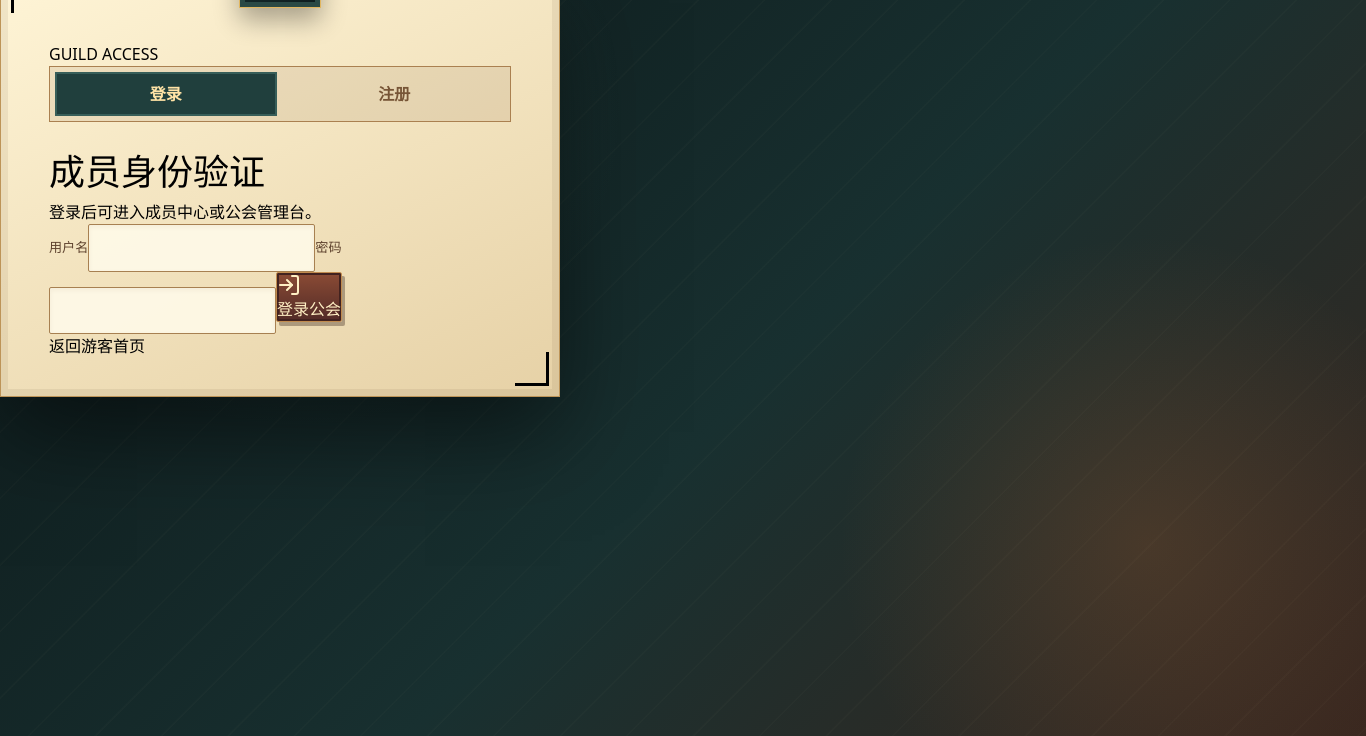
Test: Adventurer Guild app › switches immediately to the authenticated account after login
Type "cos.member" into the field labelled "用户名" at coordinates (202, 248), box [88, 224, 315, 272]
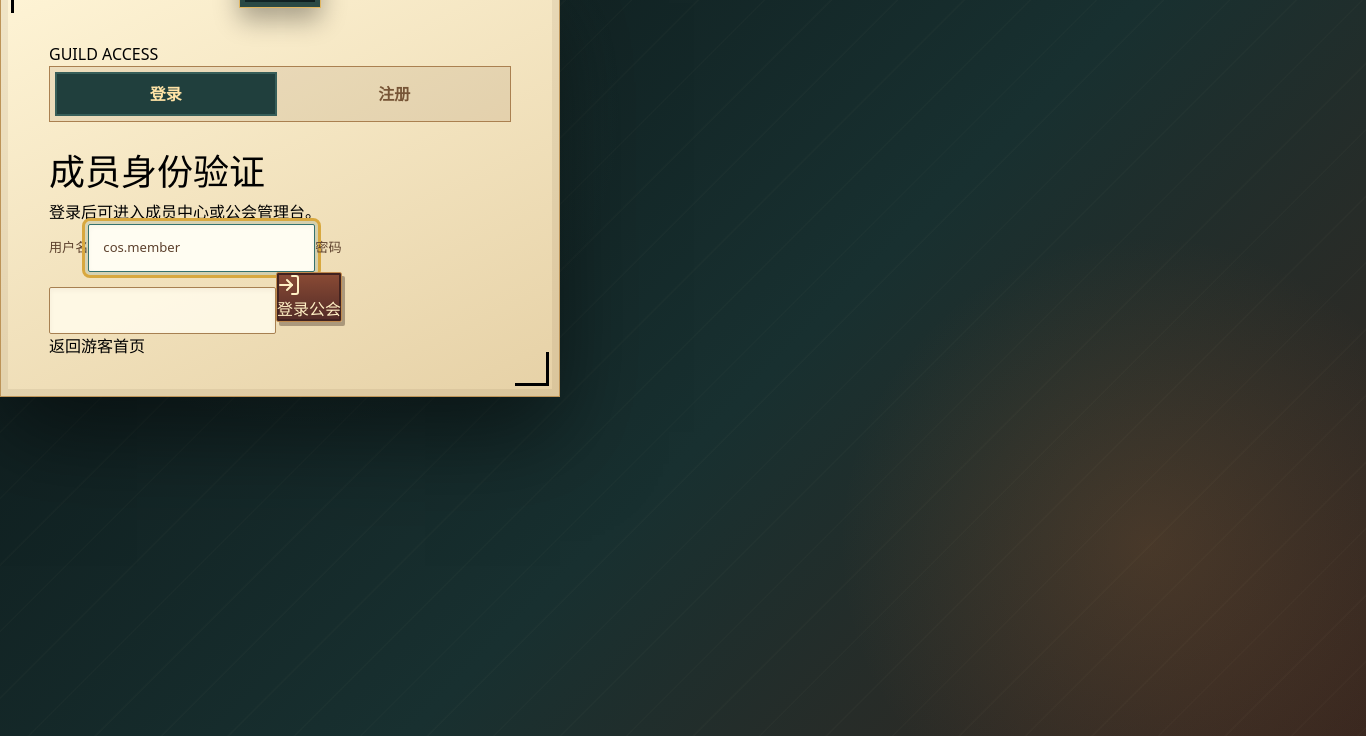
Type "DemoMember!2026" into the password field labelled "密码" at coordinates (162, 311), box [49, 287, 276, 334]
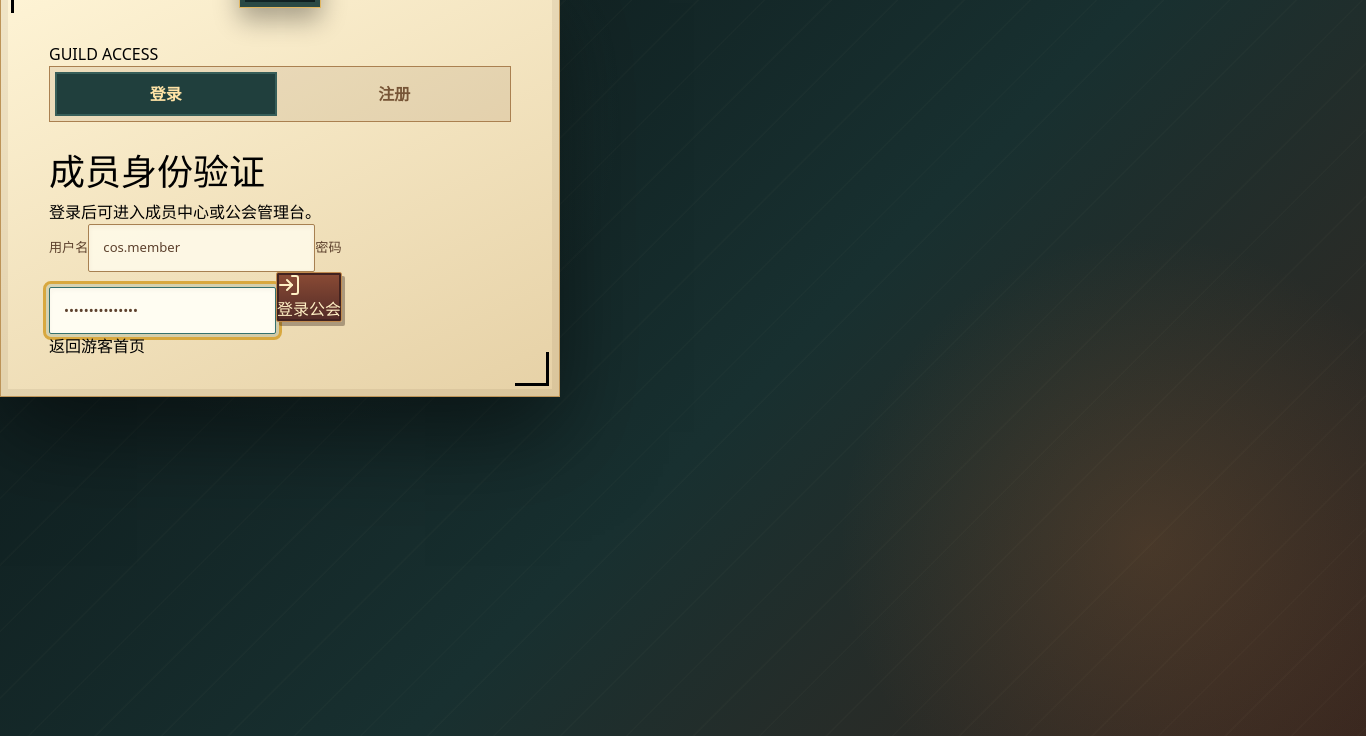
Click the button "登录公会" at coordinates (309, 297), box [276, 272, 342, 322]
(page scrolled)
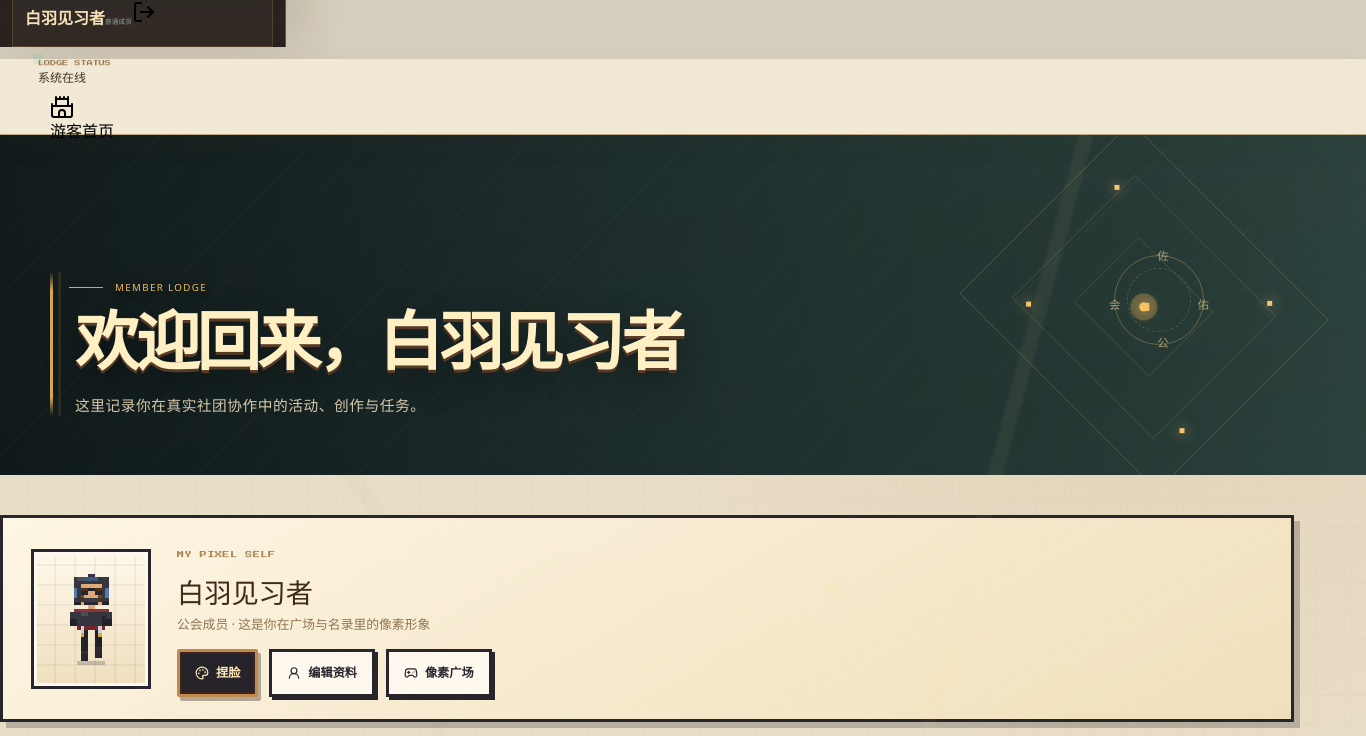
Expected: the heading "欢迎回来，白羽见习者" is shown, [75, 308, 682, 379]
